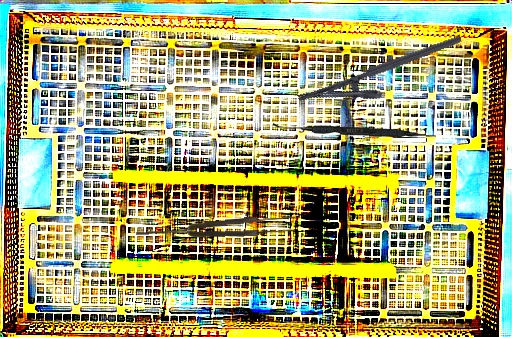Needle Holder: (296, 34, 471, 125)
Spatula Surgical: (272, 123, 437, 139)
Tissue Forceps: (135, 214, 296, 243)
